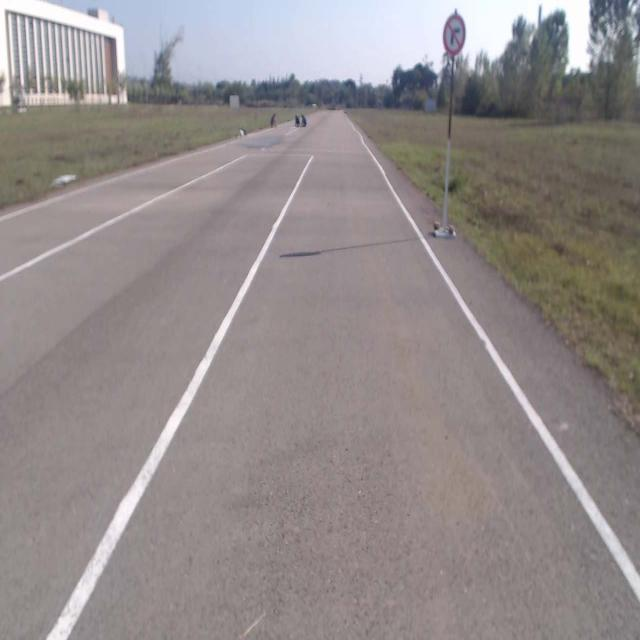sagadonulmez: (443, 14, 465, 56)
